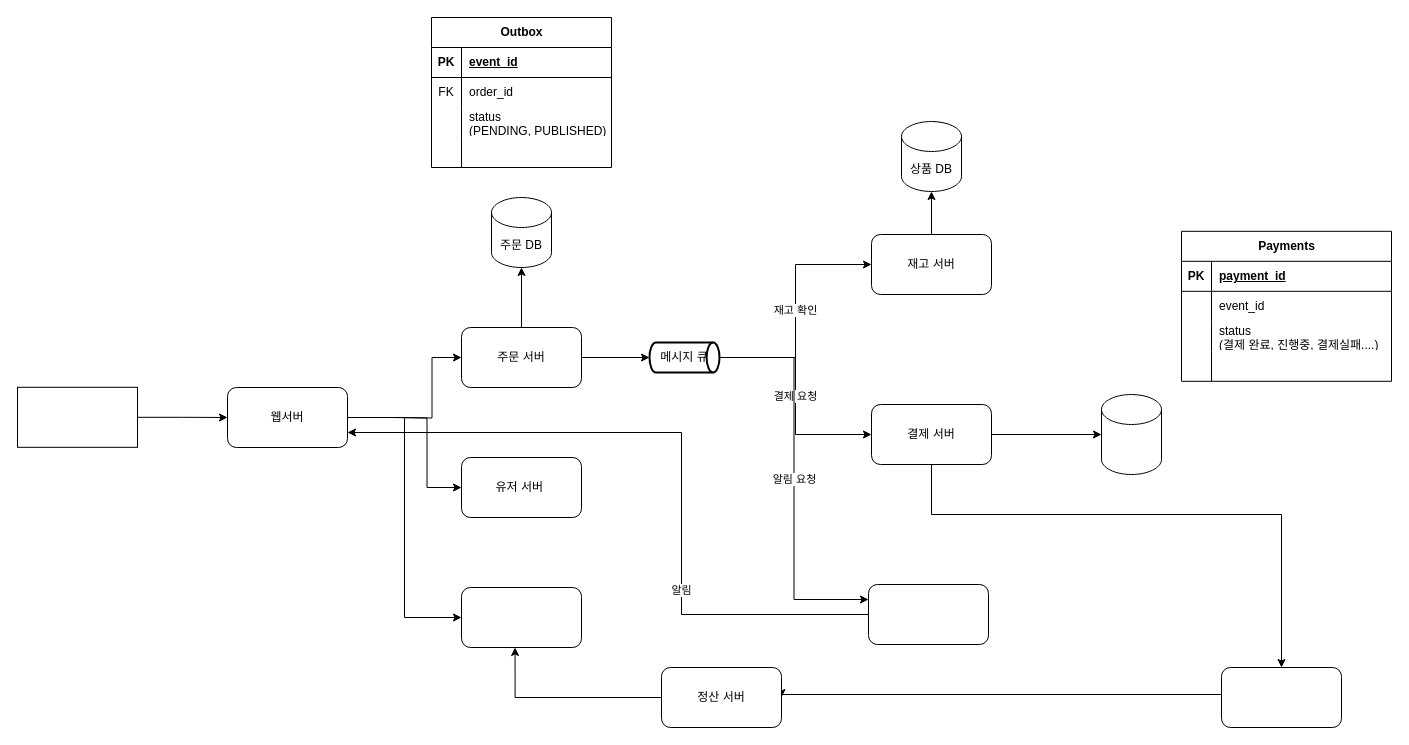
The diagram is 1409 pixels wide and 745 high, and some of its shapes have lost their labels. The shapes that lost their labels are listed below. From the top down, each one's centre as x and y in pixels, then its label:
(77,416): 클라이언트
(1131,434): 결제 DB
(521,617): 판매자 서버
(928,614): 알림 서버
(1281,697): 외부 PG사
